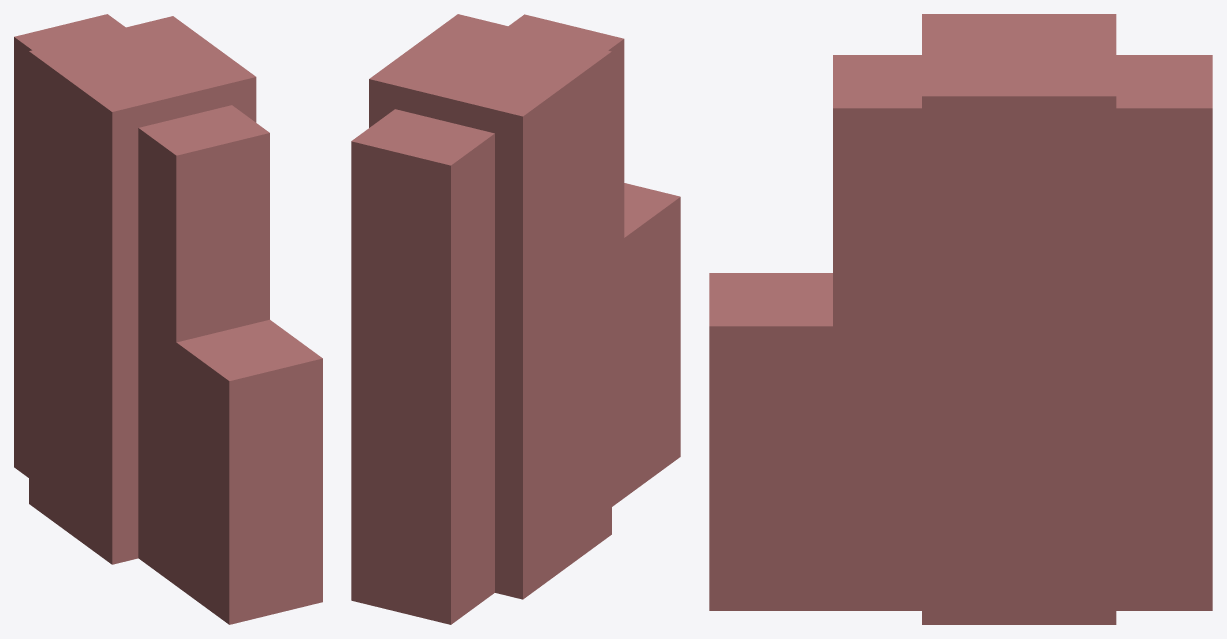
The model's file is building3.fbx.
3 views of the same model, side by side, from view 1: azimuth 30°, elevation 25°; view 2: azimuth 150°, elevation 25°; view 3: azimuth 270°, elevation 25° (orthographic). The views are drawn at different scales.
Parts seen in each view (by area): view 1: compact_build; view 2: compact_build; view 3: compact_build.
Boxes of the visible parts, <box> form: compact_build: <box>14,14,322,624</box>; compact_build: <box>351,14,680,624</box>; compact_build: <box>709,14,1212,624</box>.
Size of the model in its own units: 10 by 30 by 25.87.
